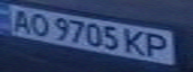0: (84, 20, 106, 48)
5: (103, 24, 124, 53)
7: (66, 18, 87, 45)
9: (48, 15, 72, 42)
A: (3, 7, 36, 34)
K: (121, 27, 151, 56)
O: (24, 11, 54, 37)
P: (142, 31, 175, 60)
